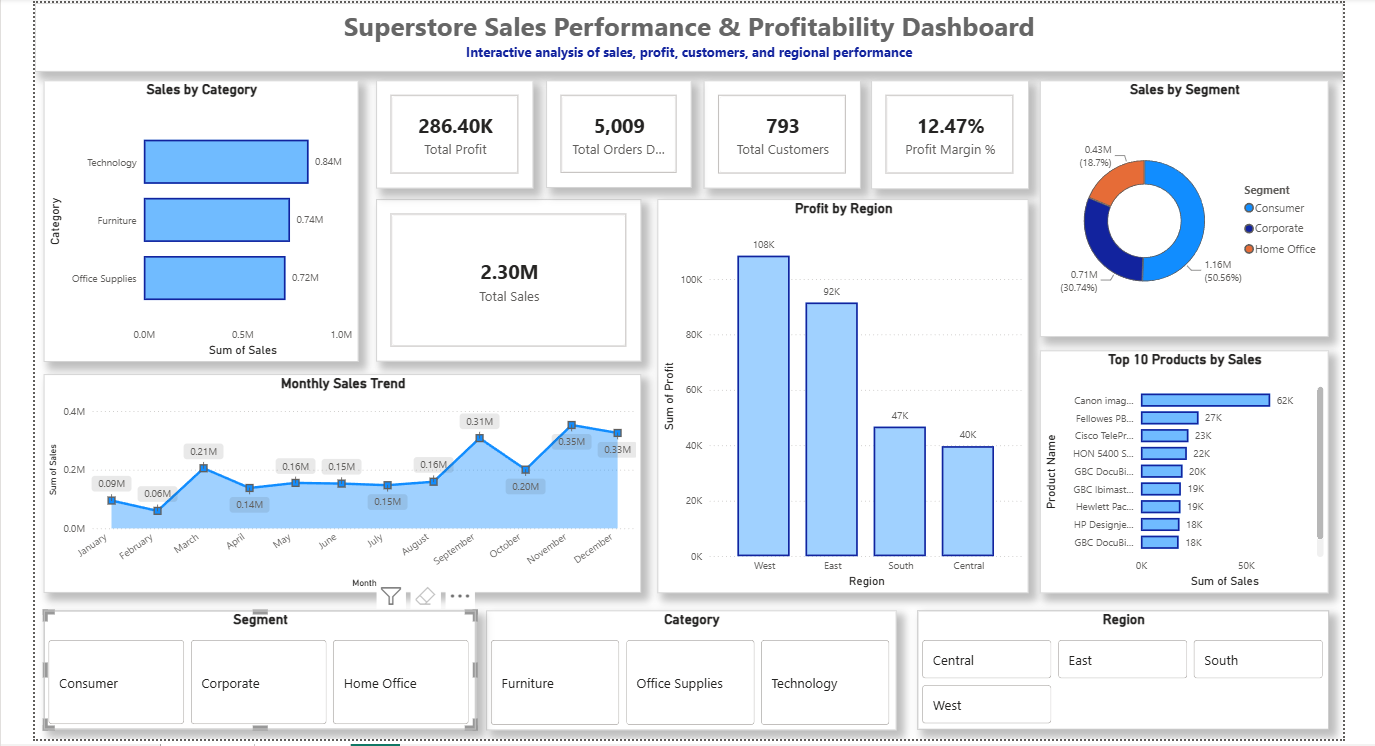

What the dashboard file says about the page in this screenshot:
{"tool":"powerbi","page":{"name":"Page 1","canvas":[1600,900],"ordinal":0},"visuals":[{"type":"textbox","box":[0,0,1600.4,84.1],"z":0},{"type":"cardVisual","fields":{"Data":["Sample - Superstore(1).Total Sales"]},"box":[417.3,240,324.1,198.7],"z":1000},{"type":"cardVisual","fields":{"Data":["Sample - Superstore(1).Total Profit"]},"box":[417.3,94.8,192,132],"z":2000},{"type":"cardVisual","fields":{"Data":["Sample - Superstore(1).Total Customers"]},"box":[817.8,94.8,192,132],"z":3000},{"type":"cardVisual","fields":{"Data":["Sample - Superstore(1).Profit Margin %"]},"box":[1022.6,94.8,192.6,133],"z":4000},{"type":"cardVisual","fields":{"Data":["Sample - Superstore(1).Total Orders Display"]},"box":[625.2,94.8,177.3,131.5],"z":5000},{"type":"clusteredBarChart","title":"Sales by Category","fields":{"Category":["Sample - Superstore(1).Category"],"Y":["Sum(Sample - Superstore(1).Sales)"]},"box":[10.7,94.8,385.2,343.9],"z":6000},{"type":"clusteredColumnChart","title":"Profit by Region","fields":{"Category":["Sample - Superstore(1).Region"],"Y":["Sum(Sample - Superstore(1).Profit)"]},"box":[761.2,240,454,481.5],"z":7000},{"type":"lineChart","title":"Monthly Sales Trend","fields":{"Category":["Sample - Superstore(1).Order Date.Variation.Date Hierarchy.Month"],"Y":["Sum(Sample - Superstore(1).Sales)"]},"box":[10.7,454,730.6,267.5],"z":8000},{"type":"donutChart","title":"Sales by Segment","fields":{"Category":["Sample - Superstore(1).Segment"],"Y":["Sum(Sample - Superstore(1).Sales)"]},"box":[1228.9,94.8,353.1,313.4],"z":9000},{"type":"barChart","title":"Top 10 Products by Sales","fields":{"Category":["Sample - Superstore(1).Product Name"],"Y":["Sum(Sample - Superstore(1).Sales)"]},"box":[1228.9,424.9,353.1,296.5],"z":10000},{"type":"advancedSlicerVisual","fields":{"Values":["Sample - Superstore(1).Region"]},"box":[1079.1,742.9,502.9,145.2],"z":11000},{"type":"advancedSlicerVisual","fields":{"Values":["Sample - Superstore(1).Category"]},"box":[551.8,742.9,501.4,146.7],"z":12000},{"type":"advancedSlicerVisual","fields":{"Values":["Sample - Superstore(1).Segment"]},"box":[10.7,742.9,528.9,145.2],"z":13000}]}

Visuals, with their boxes in screenshot pixels (x1, y1, x2, y2):
textbox: (x1=29, y1=0, x2=1335, y2=69)
cardVisual - Sample - Superstore(1).Total Sales: (x1=369, y1=196, x2=634, y2=358)
cardVisual - Sample - Superstore(1).Total Profit: (x1=369, y1=77, x2=526, y2=185)
cardVisual - Sample - Superstore(1).Total Customers: (x1=696, y1=77, x2=853, y2=185)
cardVisual - Sample - Superstore(1).Profit Margin %: (x1=863, y1=77, x2=1020, y2=186)
cardVisual - Sample - Superstore(1).Total Orders Display: (x1=539, y1=77, x2=684, y2=185)
"Sales by Category" clusteredBarChart: (x1=37, y1=77, x2=352, y2=358)
"Profit by Region" clusteredColumnChart: (x1=650, y1=196, x2=1020, y2=589)
"Monthly Sales Trend" lineChart: (x1=37, y1=371, x2=634, y2=589)
"Sales by Segment" donutChart: (x1=1032, y1=77, x2=1320, y2=333)
"Top 10 Products by Sales" barChart: (x1=1032, y1=347, x2=1320, y2=589)
advancedSlicerVisual - Sample - Superstore(1).Region: (x1=909, y1=606, x2=1320, y2=725)
advancedSlicerVisual - Sample - Superstore(1).Category: (x1=479, y1=606, x2=888, y2=726)
advancedSlicerVisual - Sample - Superstore(1).Segment: (x1=37, y1=606, x2=469, y2=725)
